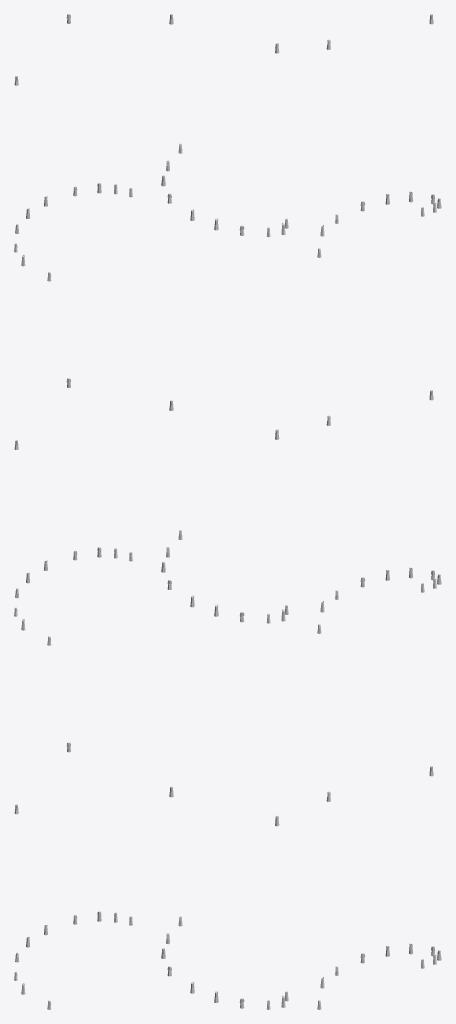
File: Circle1Folk2.obj
3 views of the same model, side by side, from view 1: azimuth 30°, elevation 25°; view 2: azimuth 150°, elevation 25°; view 3: azimuth 330°, elevation 25° (orthographic). The views are drawn at different scales.
Parts seen in each view (by area): view 1: Circle1Folk2; view 2: Circle1Folk2; view 3: Circle1Folk2.
Boxes of the visible parts, x1=… form: Circle1Folk2: x1=14, y1=14, x2=132, y2=1009; Circle1Folk2: x1=161, y1=14, x2=288, y2=1009; Circle1Folk2: x1=317, y1=14, x2=441, y2=1009.
Size of the model in its own units: 24.41 by 208 by 19.18.
1 material, 1 textured.
